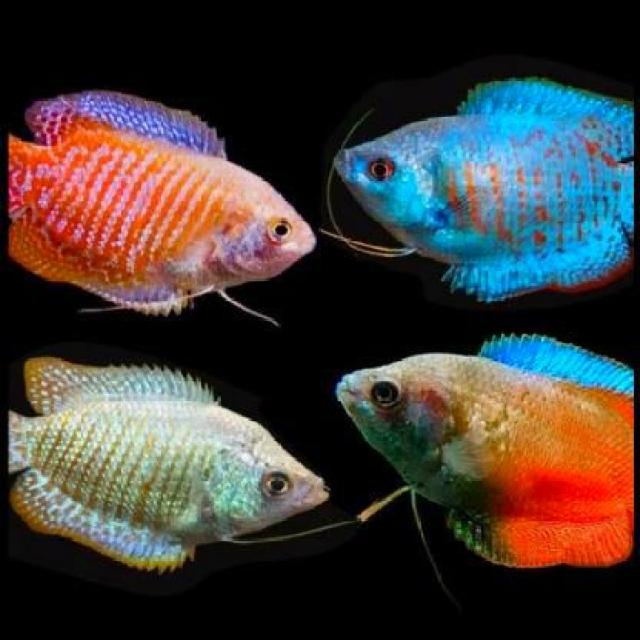Gourami: (4, 86, 316, 317), (0, 352, 323, 571), (336, 329, 633, 566), (338, 72, 634, 288)
